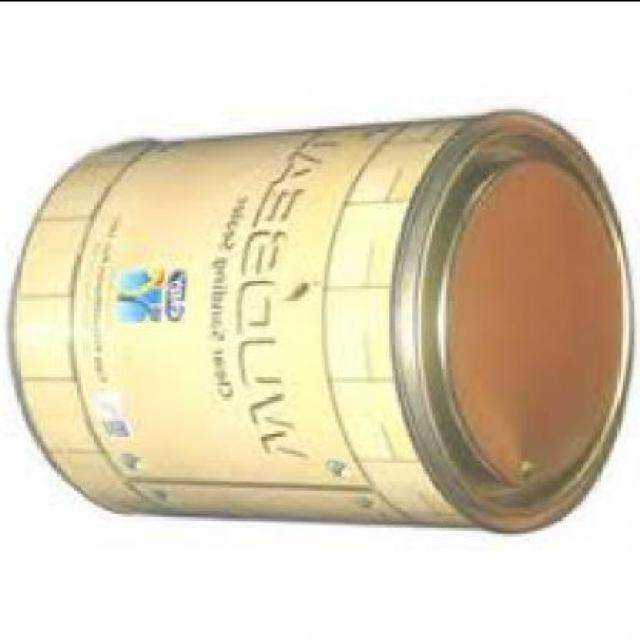METAL: (20, 111, 637, 535)
